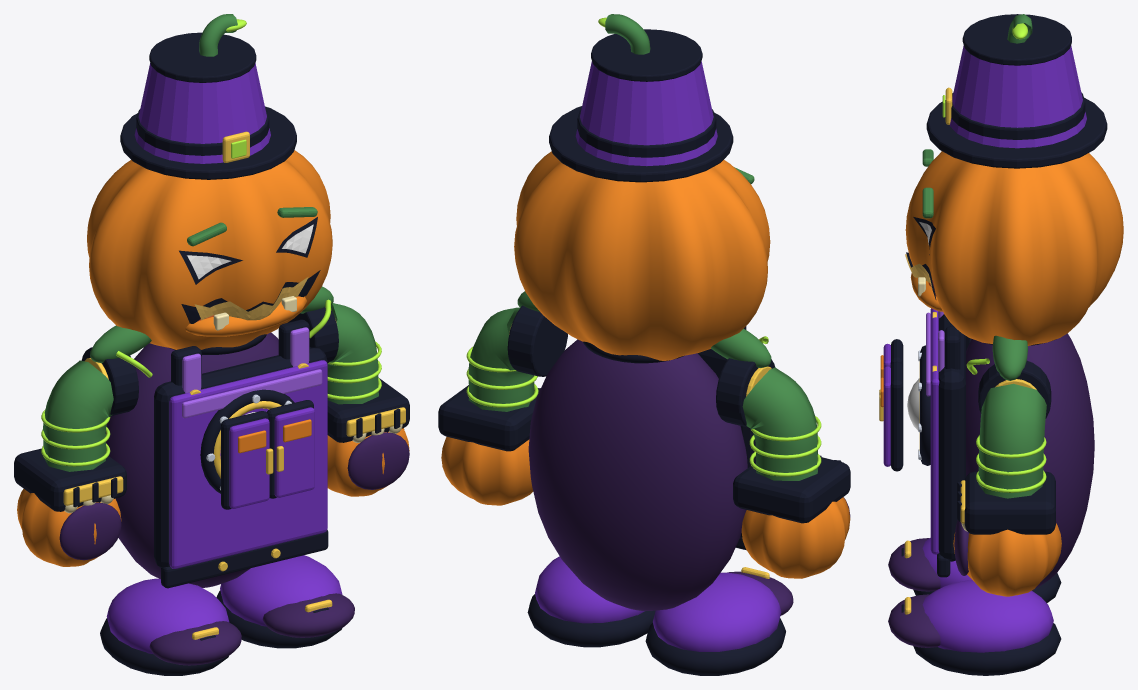
The model's file is PumpkinForeman.fbx.
The picture shows the model from 3 angles, left to right: view 1: azimuth 30°, elevation 25°; view 2: azimuth 150°, elevation 25°; view 3: azimuth 270°, elevation 25°; orthographic projection. The views are drawn at different scales.
Visible parts, largest first — view 1: Head, Overalls, Arm_L, Foot_L, Body, Foot_R, Arm_R, Paw_L, Door_L, Paw_R, Door_R, Jaw (+2 smaller); view 2: Head, Body, Arm_L, Arm_R, Foot_L, Foot_R, Paw_L, Paw_R, Ear_L, Overalls; view 3: Head, Arm_R, Foot_R, Body, Overalls, Paw_R, Foot_L, Door_R, Ear_R, Jaw, Door_L, Core.
Boxes of the visible parts, x1,y1,x2,y2 form: Head: (87, 14, 332, 349); Overalls: (154, 319, 328, 588); Arm_L: (14, 347, 138, 511); Foot_L: (100, 578, 241, 675); Body: (105, 299, 331, 587); Foot_R: (216, 555, 354, 648); Arm_R: (287, 303, 409, 442); Paw_L: (17, 489, 121, 566); Door_L: (221, 411, 273, 509); Paw_R: (327, 424, 409, 496); Door_R: (266, 400, 314, 498); Jaw: (185, 296, 306, 336); Head: (514, 14, 770, 360); Body: (528, 336, 768, 610); Arm_L: (716, 358, 850, 523); Arm_R: (438, 305, 567, 451); Foot_L: (645, 567, 793, 675); Foot_R: (527, 556, 655, 647); Paw_L: (741, 497, 850, 578); Paw_R: (441, 437, 533, 505); Ear_L: (711, 328, 771, 367); Overalls: (697, 326, 755, 550); Head: (905, 14, 1123, 345); Arm_R: (957, 360, 1055, 534); Foot_R: (888, 580, 1061, 675); Body: (966, 333, 1094, 588); Overalls: (918, 308, 965, 577); Paw_R: (953, 520, 1061, 596); Foot_L: (888, 538, 1061, 602); Door_R: (879, 361, 903, 471); Ear_R: (992, 335, 1027, 380); Jaw: (910, 273, 942, 311); Door_L: (879, 339, 903, 394); Core: (907, 378, 919, 430).
Bounding box in the file's own units: 1015 × 1558 × 550.
Materials: 1 (1 with a texture image).
